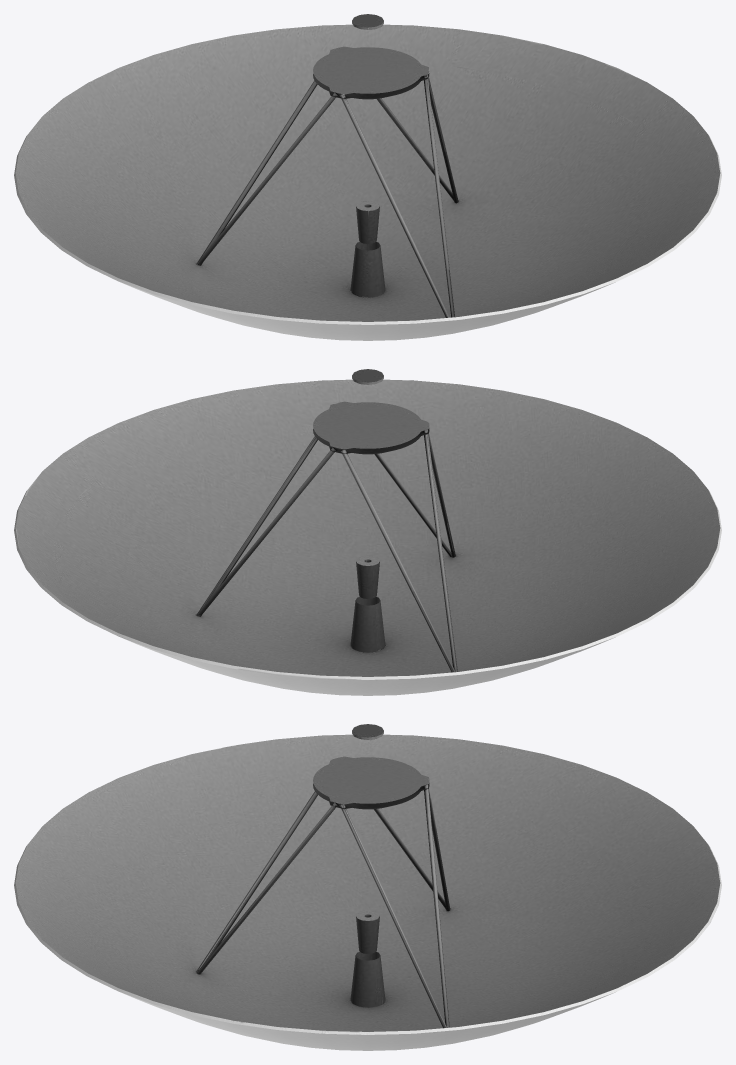
3 renders of one model, top to bottom at view 1: azimuth 30°, elevation 25°; view 2: azimuth 150°, elevation 25°; view 3: azimuth 270°, elevation 25°, orthographic.
Parts seen in each view (by area): view 1: tex_02_AO; view 2: tex_02_AO; view 3: tex_02_AO.
Part boxes in pixels (x1=…): tex_02_AO: x1=14, y1=14, x2=721, y2=340; tex_02_AO: x1=14, y1=369, x2=721, y2=695; tex_02_AO: x1=14, y1=724, x2=721, y2=1050.
Size of the model in its own units: 3.81 by 1.61 by 3.81.
1 material, 1 textured.
